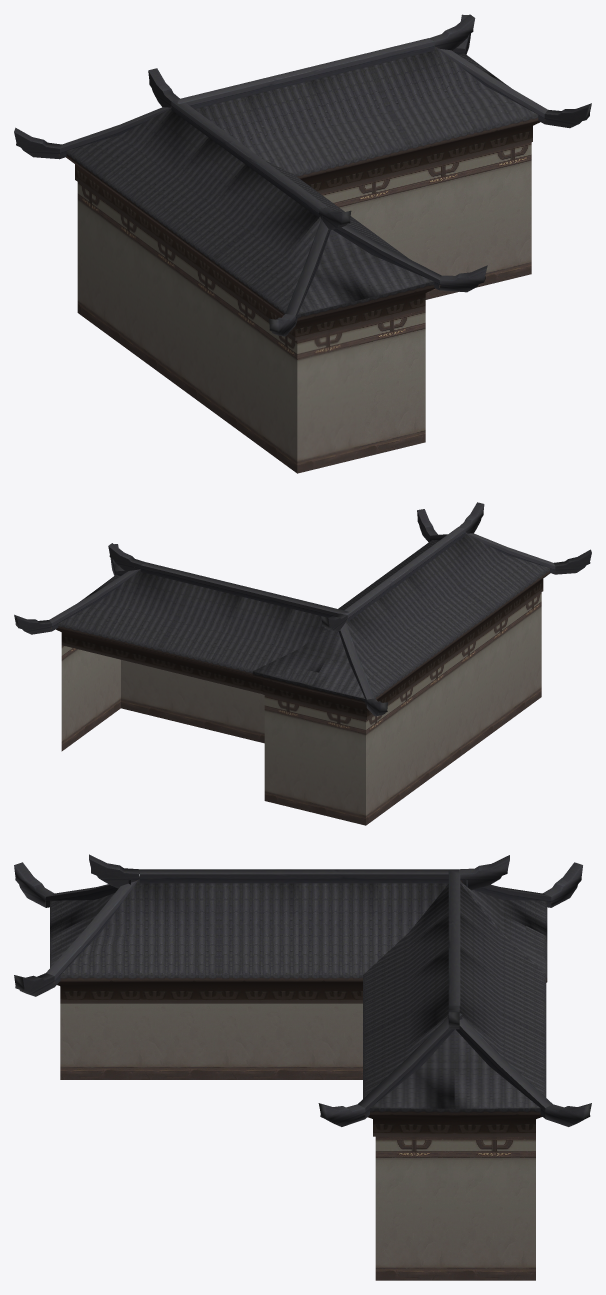
File: City_bujian_18.fbx
The picture shows the model from 3 angles, top to bottom: view 1: azimuth 30°, elevation 25°; view 2: azimuth 150°, elevation 25°; view 3: azimuth 270°, elevation 25°; orthographic projection. The views are drawn at different scales.
Visible parts, largest first — view 1: polySurface3486; view 2: polySurface3486; view 3: polySurface3486.
Part boxes in pixels (<box>): polySurface3486: <box>14,14,591,473</box>; polySurface3486: <box>14,502,591,825</box>; polySurface3486: <box>14,854,591,1280</box>.
Size of the model in its own units: 19.24 by 9.41 by 19.23.
